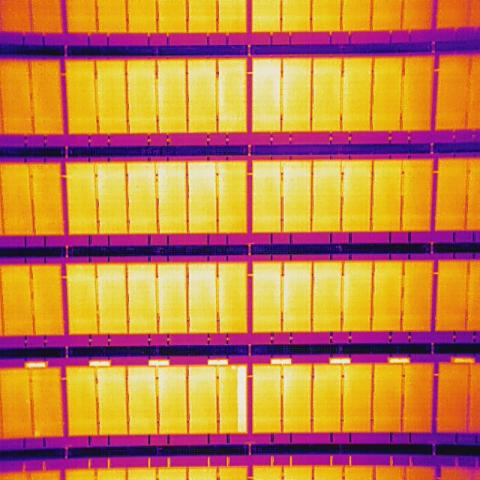fault: (237, 365, 247, 432), (231, 363, 237, 370)
